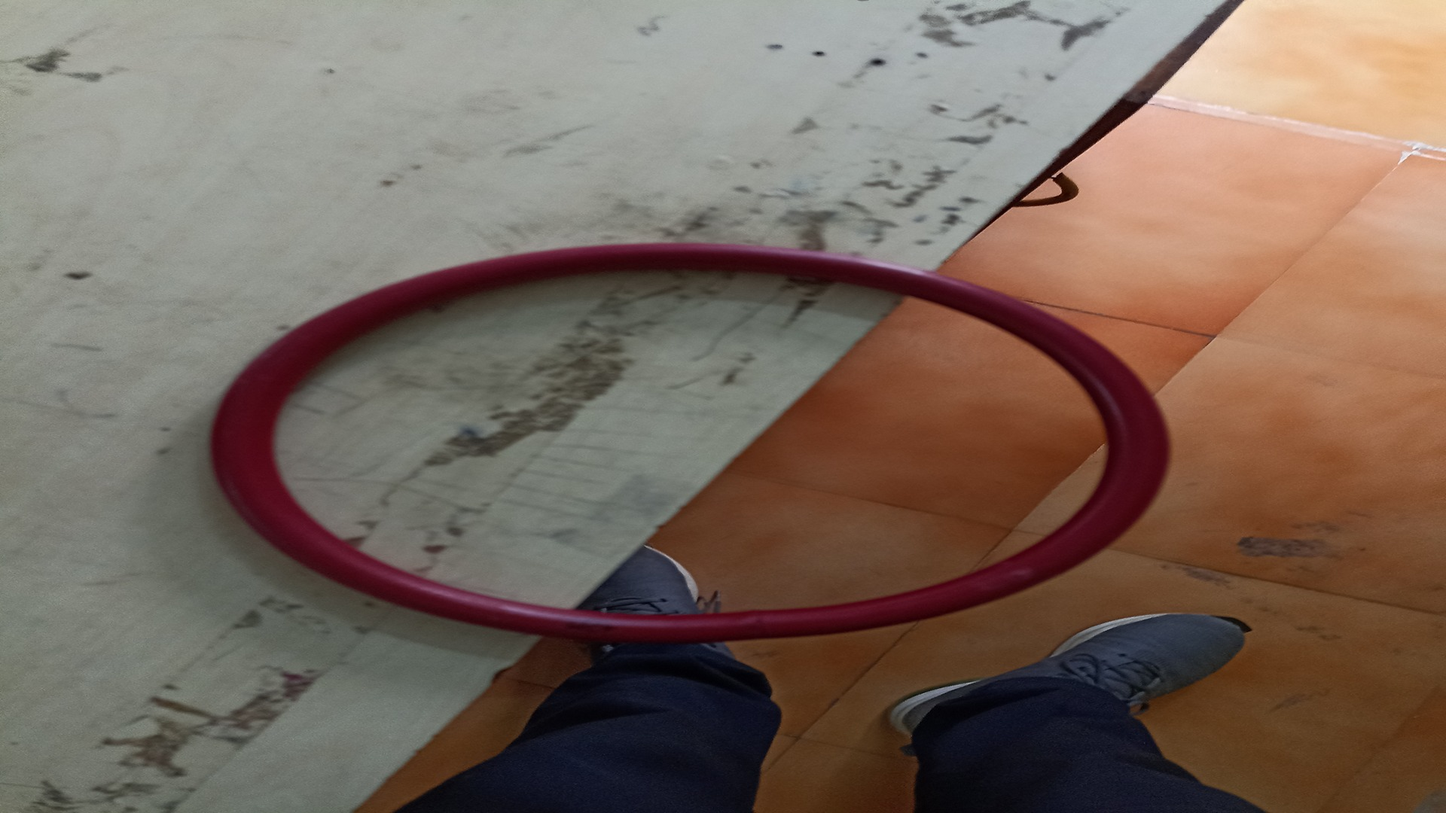Red ring: (208, 243, 1170, 641)
